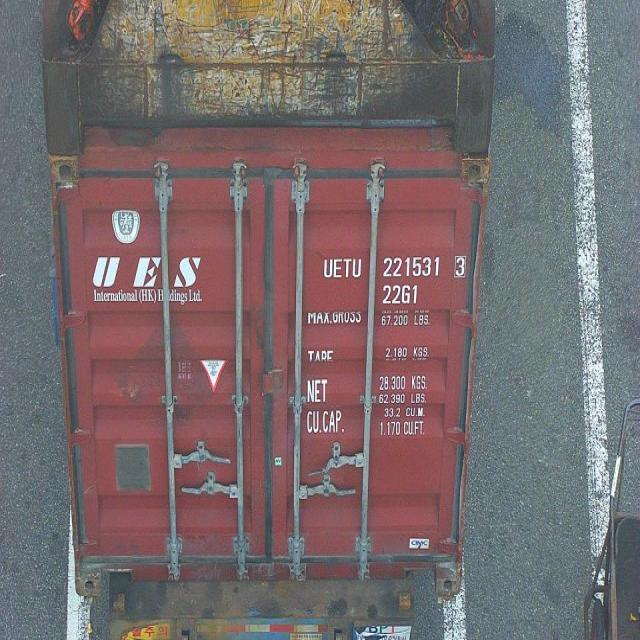ISO: (380, 284, 421, 306)
container_number: (318, 255, 466, 282)
